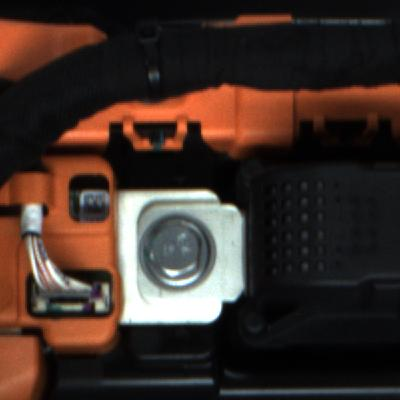nut_b: (130, 206, 248, 300)
